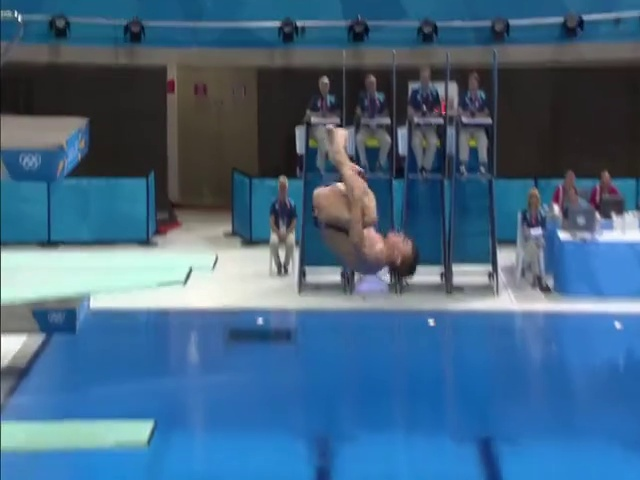diver: (311, 122, 418, 277)
